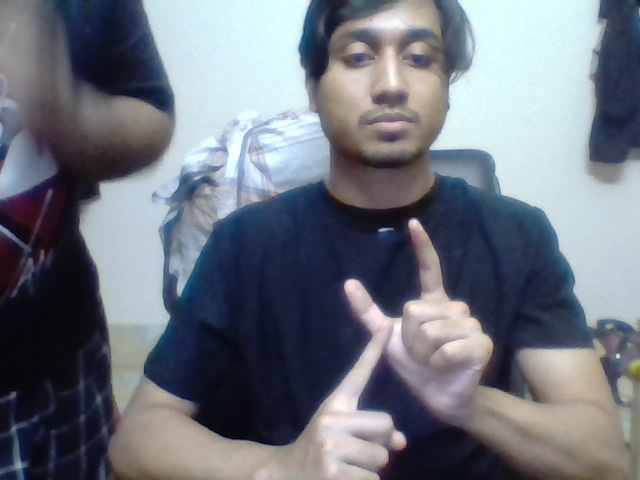Y: (330, 216, 443, 394)
